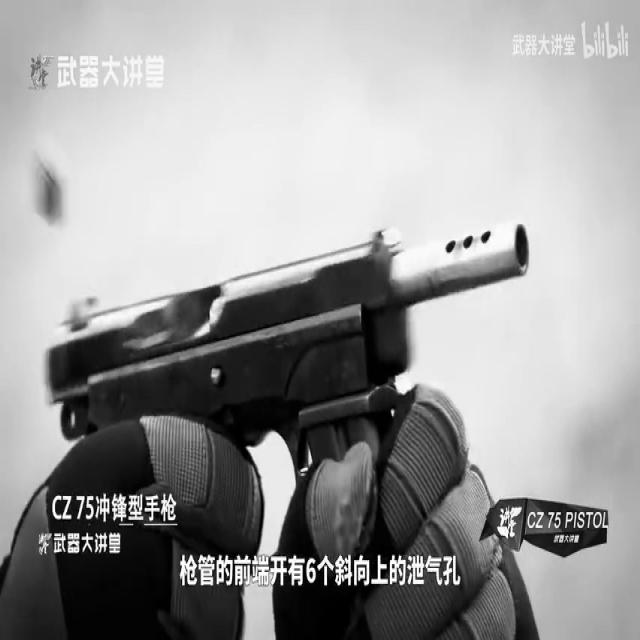Hand-Gun: (29, 207, 533, 527)
